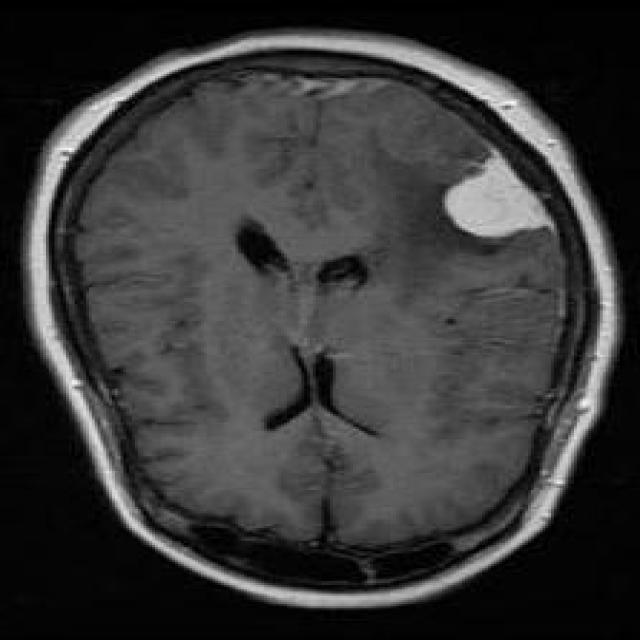Tumor-Cell: (418, 150, 563, 248)
